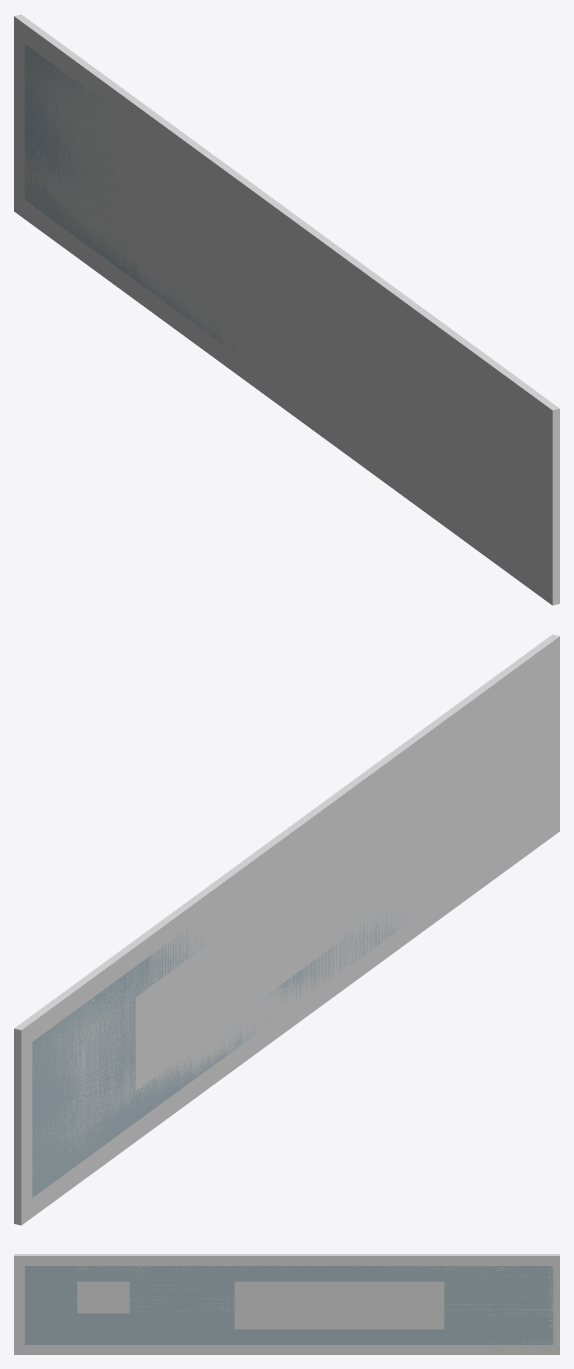
The model's file is wall_left1.gltf.
The picture shows the model from 3 angles, top to bottom: view 1: azimuth 30°, elevation 25°; view 2: azimuth 150°, elevation 25°; view 3: azimuth 270°, elevation 25°; orthographic projection. The views are drawn at different scales.
Visible parts, largest first — view 1: 立方体, wall; view 2: 立方体, wall; view 3: wall, 立方体.
Part boxes in pixels (x1,y1,x2,y2): 立方体: (14,14,559,605); wall: (24,44,255,368); 立方体: (14,634,559,1225); wall: (32,905,413,1197); wall: (25,1266,553,1344); 立方体: (14,1254,559,1354).
Bounding box in the file's own units: 2 × 50 × 250.
